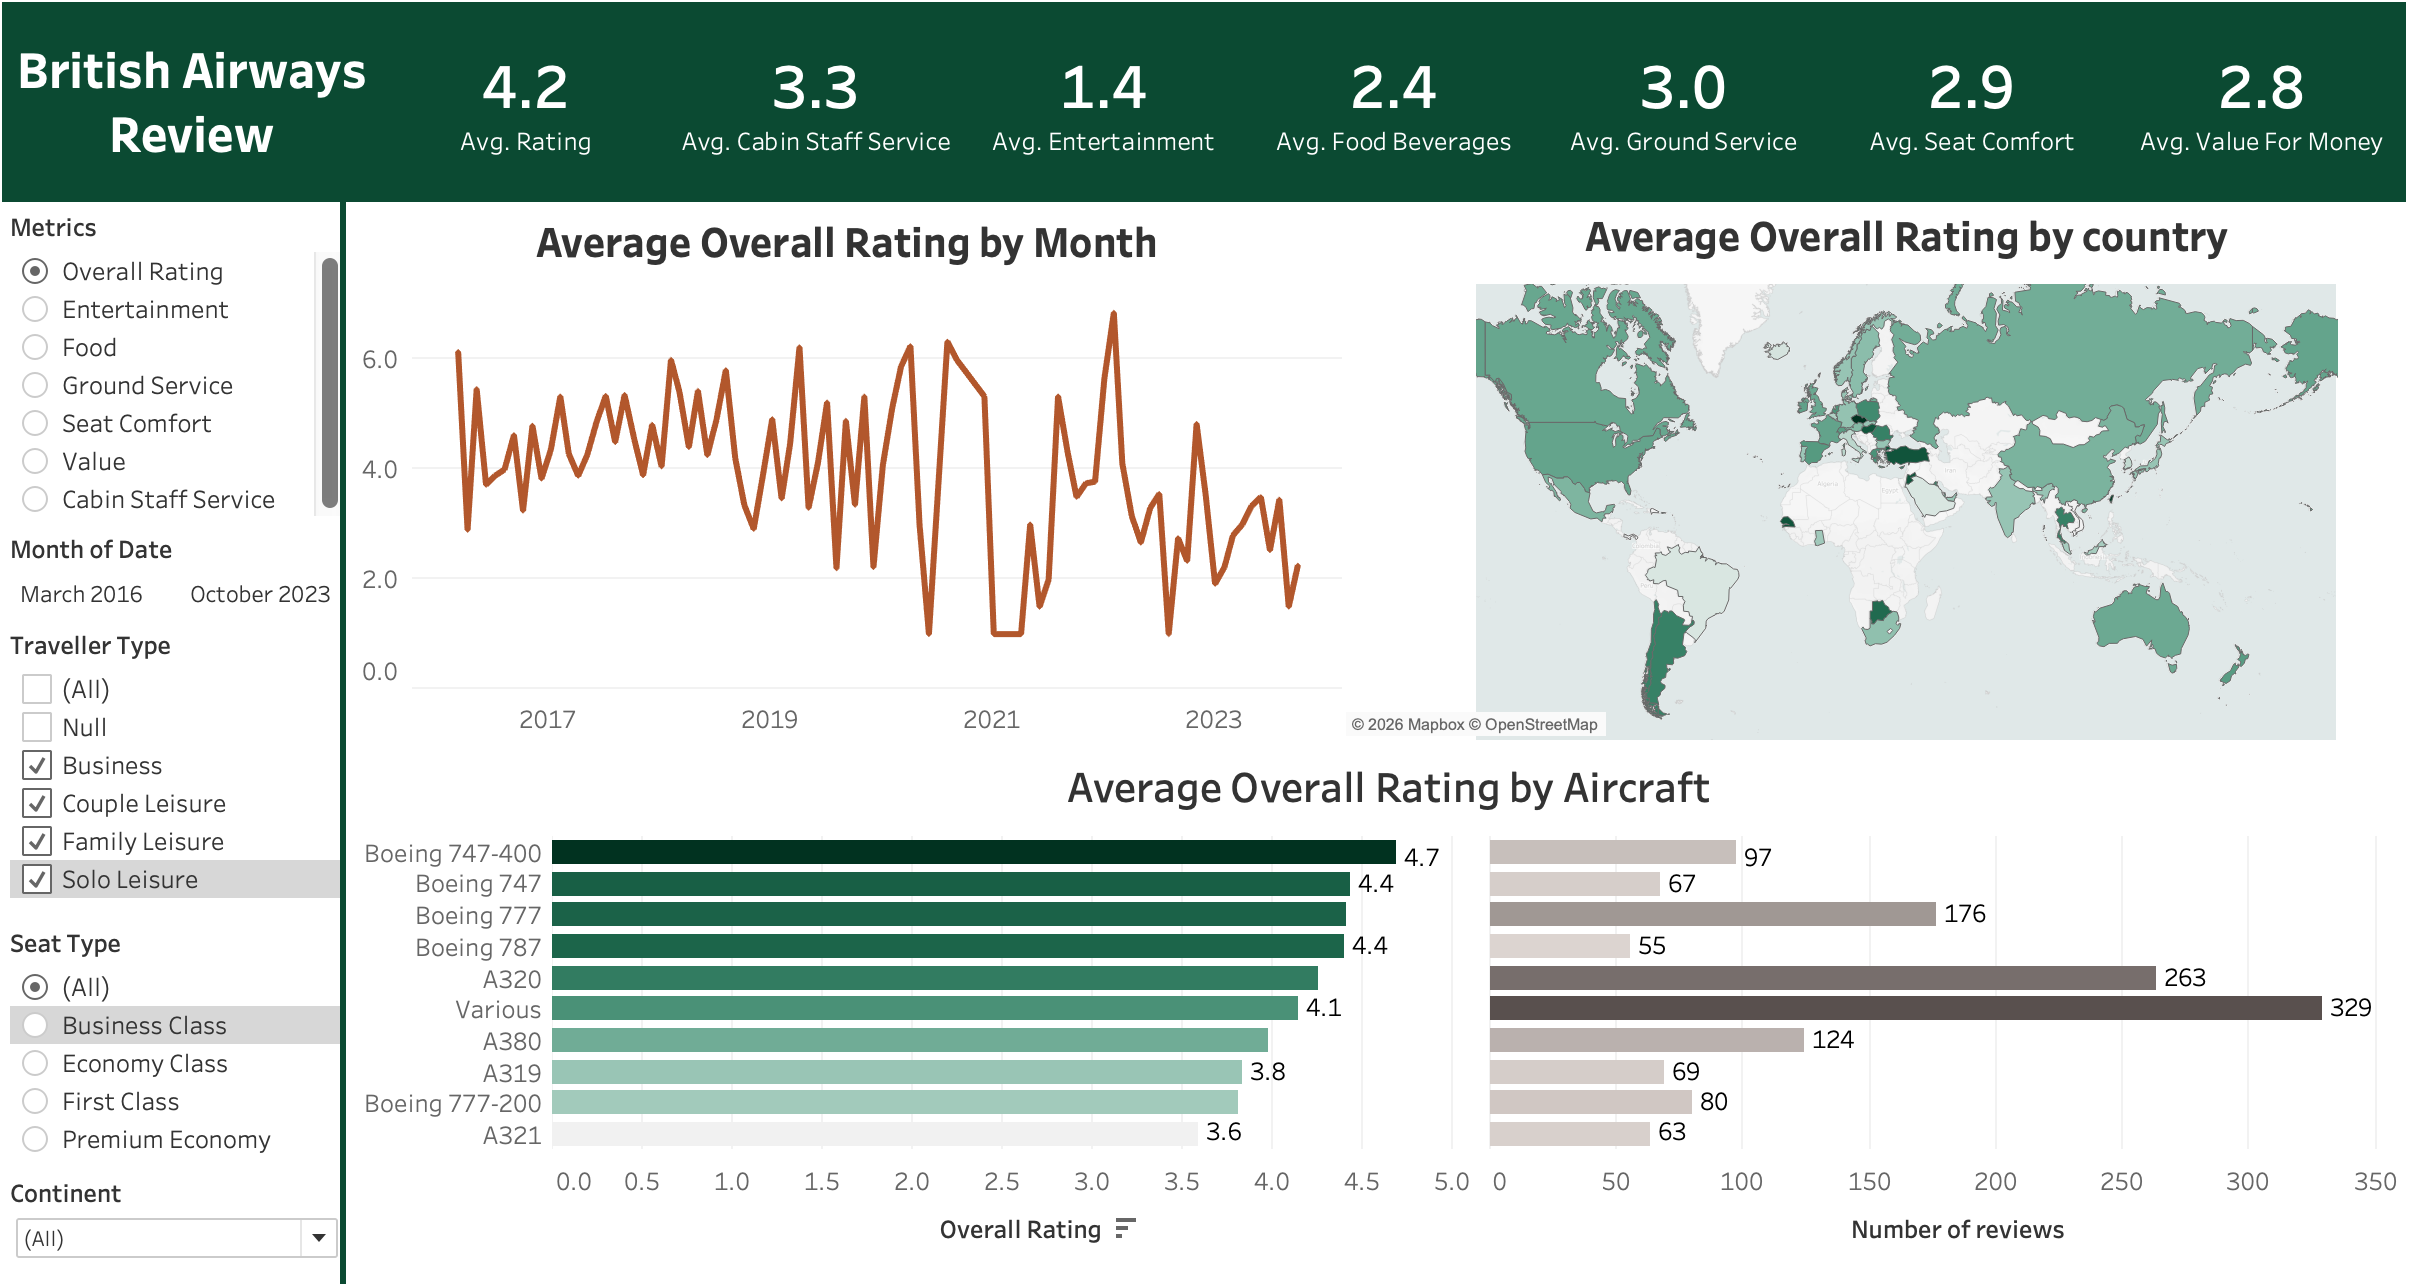

Layout of this report page (visuals, bound fields, positions):
{"tool":"tableau","page":{"name":"Dashboard 1","canvas":[1200,630],"ordinal":0},"visuals":[{"type":"text","box":[0,0,190.5,100]},{"type":"worksheet","title":"Summary","mark":"Automatic","box":[190,0,1012,100]},{"type":"parameter","param":"[Parameters].[Parameter 1]","box":[0,100,175,161]},{"type":"worksheet","title":"Average","mark":"Automatic","rows":["Calculation_6770458385613754368"],"cols":["date"],"box":[175,102,495,271]},{"type":"filter","title":"Map","param":"[federated.00rv2am07azv8416buv8u1b0rif3].[tmn:date:qk]","box":[0,261,175,48]},{"type":"filter","title":"Map","param":"[federated.00rv2am07azv8416buv8u1b0rif3].[none:traveller_type:nk]","box":[0,309,175,149]},{"type":"filter","title":"Map","param":"[federated.00rv2am07azv8416buv8u1b0rif3].[none:seat_type:nk]","box":[0,458,175,125]}]}

Visuals, with their boxes in screenshot pixels (x1, y1, x2, y2), scaled from the page's 1200x630 canvas onto the 2422x1288 screenshot:
text: box=[0, 0, 384, 204]
"Summary" worksheet: box=[383, 0, 2421, 204]
parameter: box=[0, 204, 353, 534]
"Average" worksheet: box=[353, 209, 1352, 763]
"Map" filter: box=[0, 534, 353, 632]
"Map" filter: box=[0, 632, 353, 936]
"Map" filter: box=[0, 936, 353, 1192]
